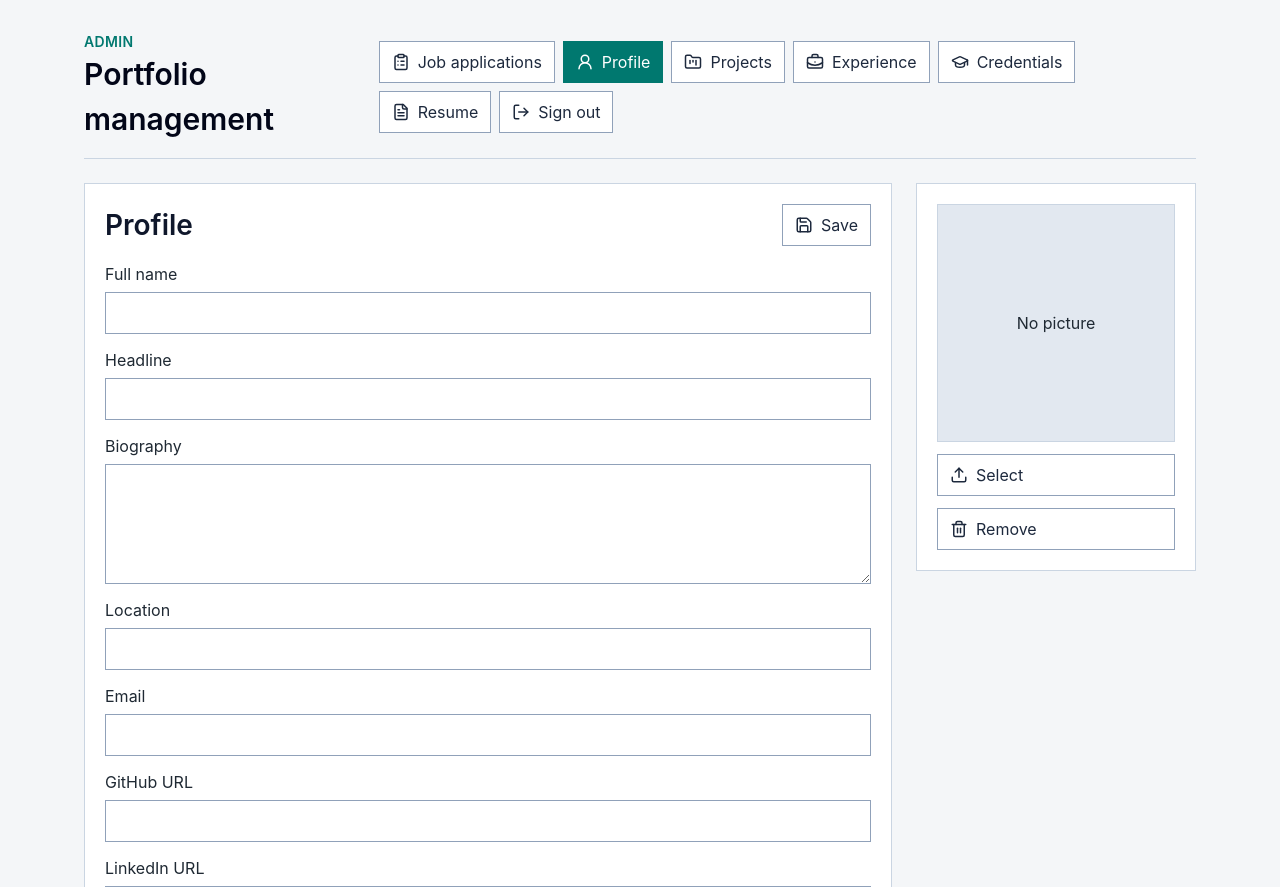
admin navigation › routes profile management to /admin/profile and navigates to portfolio sections
Expected: the heading "Portfolio management" is shown, [84,56,274,137]
Expected: the heading "Profile" is shown, [105,204,193,246]
Click the button "Projects" at (728, 62), box [671,41,785,83]
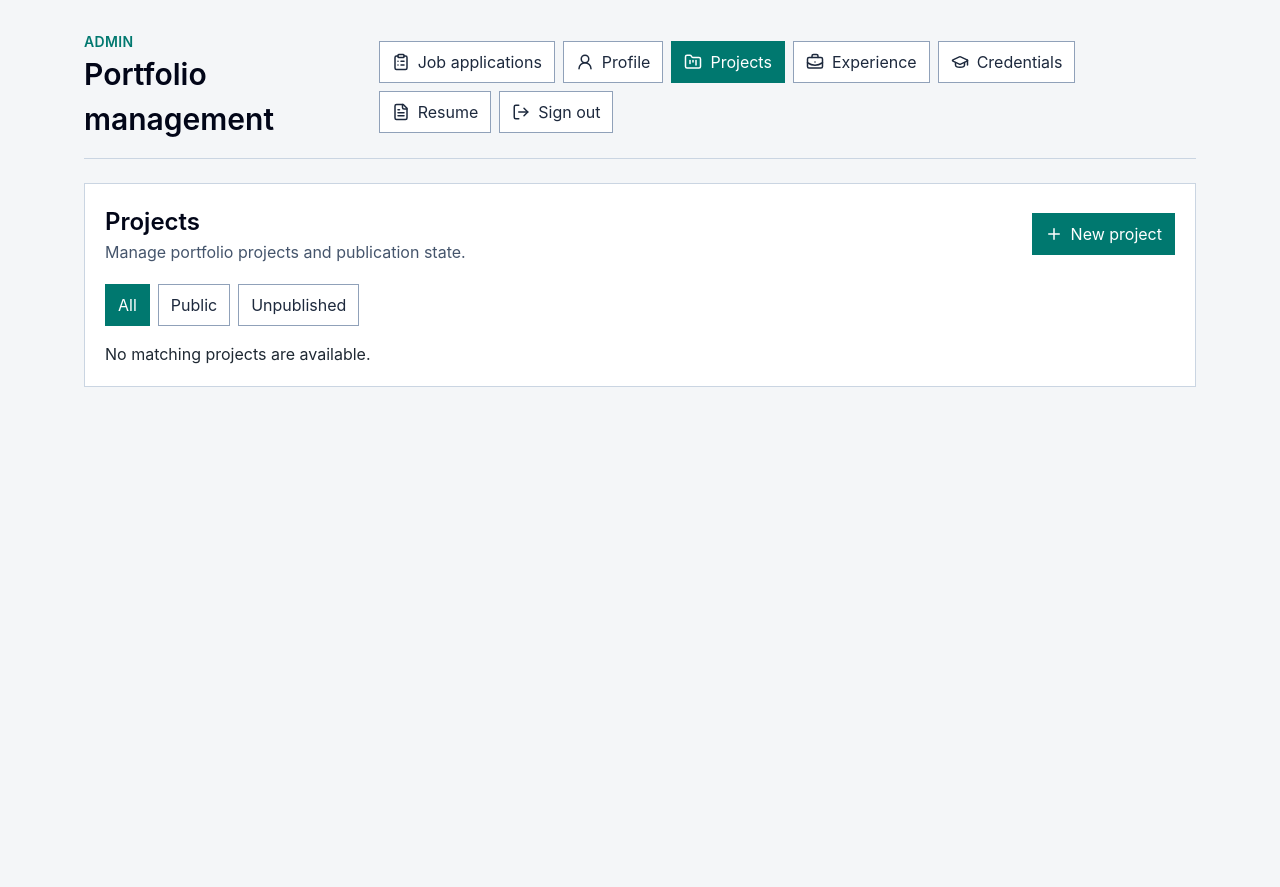
Expected: the heading "Projects" is shown, [105,207,200,236]
Click the button "Experience" at (861, 62), box [793,41,930,83]
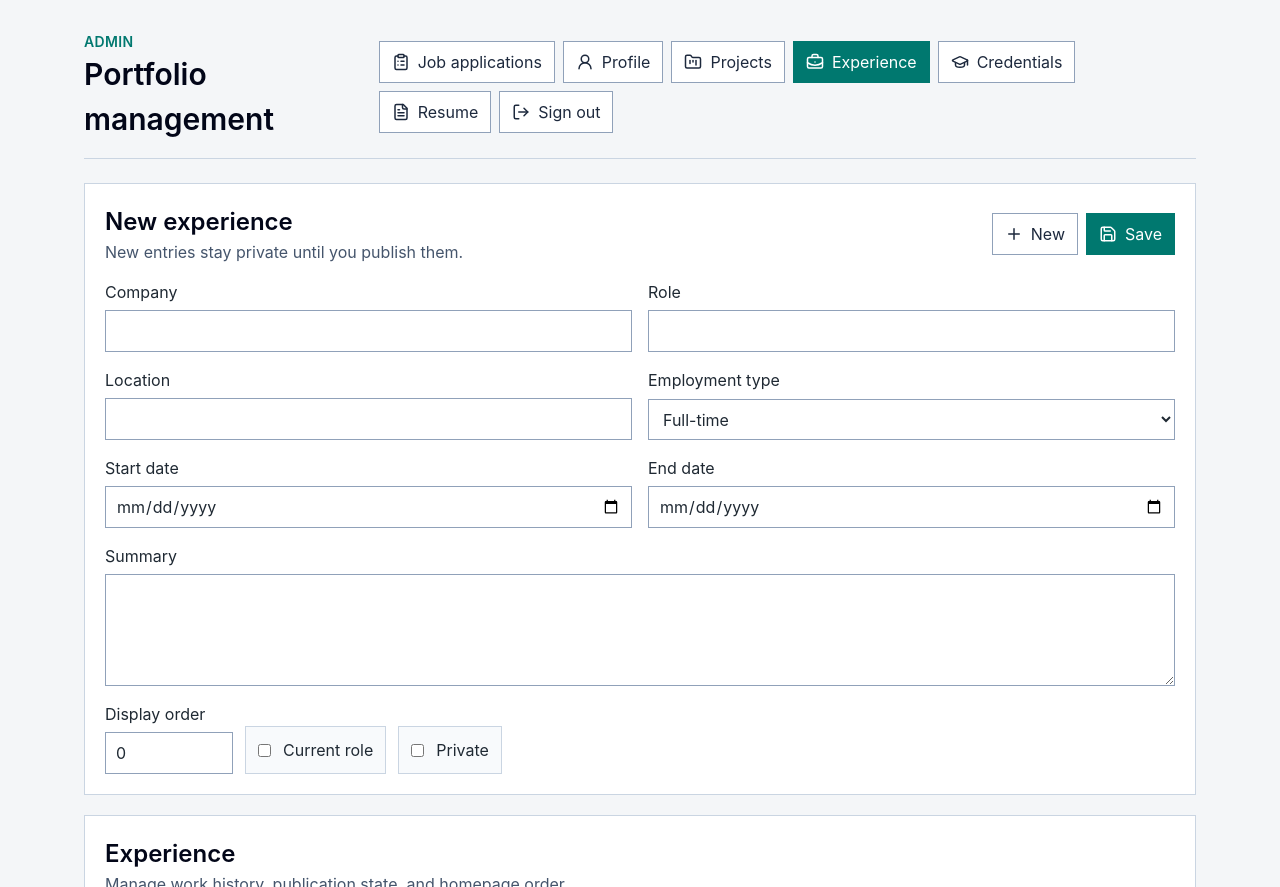
Expected: the heading "Experience" is shown, [105,839,235,868]
Click the button "Resume" at (435, 112), box [379,91,491,133]
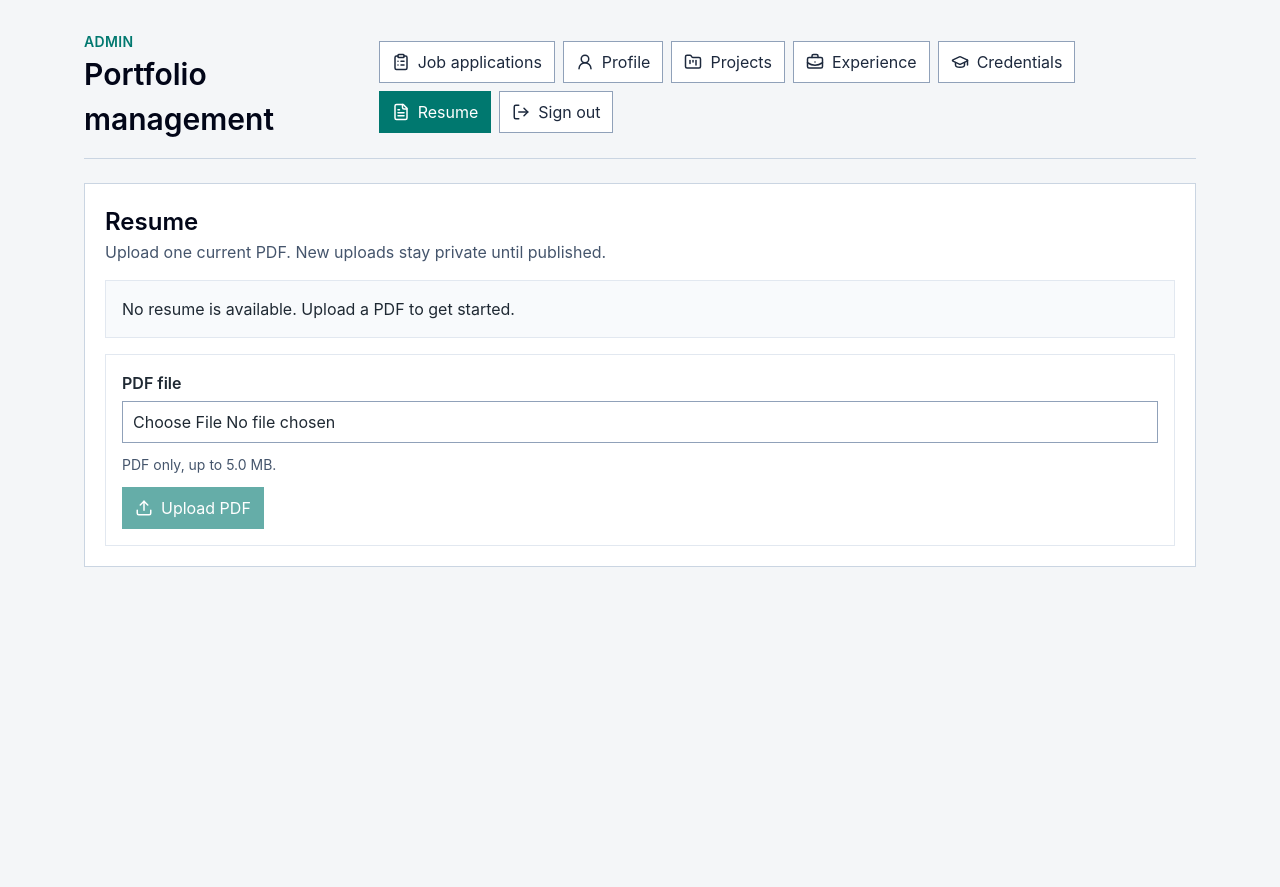
Expected: the heading "Resume" is shown, [105,207,198,236]
Click the button "Credentials" at (1007, 62), box [938,41,1076,83]
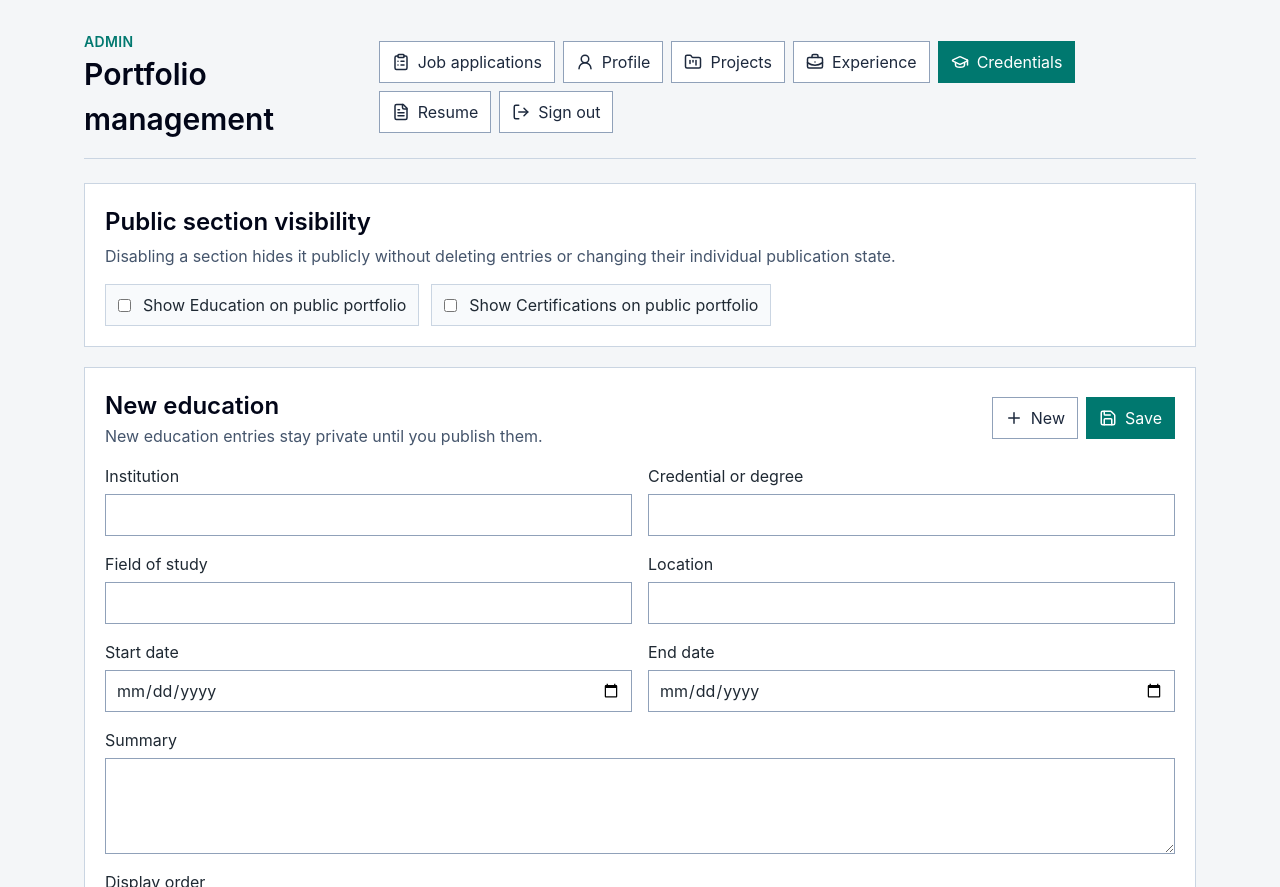
Expected: the heading "Public section visibility" is shown, [105,207,371,236]
